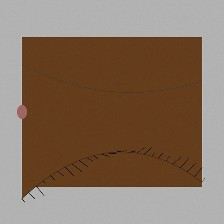pinguecula_lesion: (150, 94, 185, 122)
